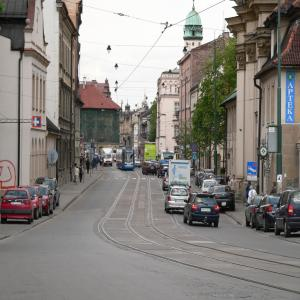Vehicle-registration-plate: (201, 207, 212, 214), (12, 203, 22, 207), (176, 200, 185, 204), (222, 202, 228, 208)
